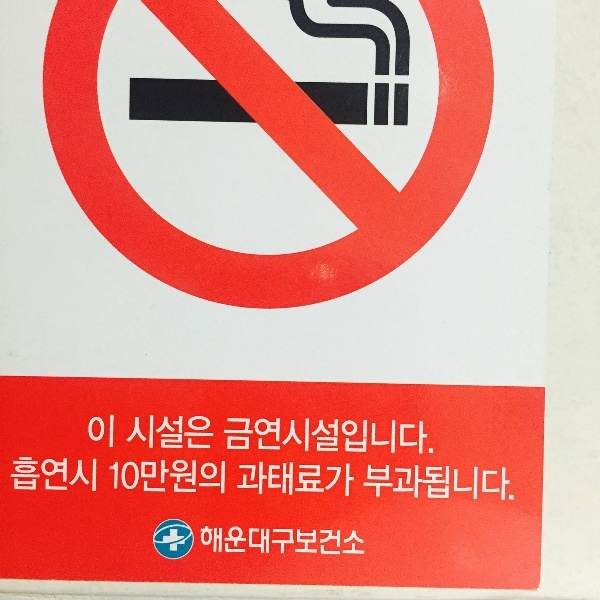text: (225, 416, 240, 459), (241, 416, 256, 459), (257, 416, 272, 459), (273, 416, 288, 459), (289, 416, 304, 459), (305, 416, 320, 459), (321, 416, 336, 459), (337, 416, 352, 459), (353, 416, 368, 459), (369, 416, 384, 459), (385, 416, 400, 459), (401, 416, 416, 459), (417, 416, 432, 459), (17, 456, 32, 498), (33, 456, 48, 498), (49, 456, 64, 498), (65, 456, 80, 498), (81, 456, 96, 498), (369, 464, 384, 503), (385, 464, 400, 503), (401, 464, 416, 503), (417, 464, 432, 503), (433, 464, 448, 503), (449, 464, 464, 503), (465, 464, 480, 503), (481, 464, 496, 503), (497, 464, 512, 503), (113, 459, 128, 497), (129, 459, 144, 497), (145, 459, 160, 497), (161, 459, 176, 497), (177, 459, 192, 497), (193, 459, 208, 497), (209, 459, 224, 497), (97, 415, 112, 453), (113, 415, 128, 453), (129, 415, 144, 453), (145, 415, 160, 453), (161, 415, 176, 453), (177, 415, 192, 453), (193, 415, 208, 453), (241, 463, 256, 499), (257, 463, 272, 499), (273, 463, 288, 499), (289, 463, 304, 499), (305, 463, 320, 499), (321, 463, 336, 499), (337, 463, 352, 499), (209, 525, 224, 559), (225, 525, 240, 559), (241, 525, 256, 559), (257, 525, 272, 559), (273, 525, 288, 559), (289, 525, 304, 559), (305, 525, 320, 559), (321, 525, 336, 559), (337, 525, 352, 559), (353, 525, 366, 559), (164, 528, 176, 554), (88, 415, 96, 453), (200, 525, 208, 559), (177, 528, 186, 554), (209, 415, 215, 453), (13, 456, 16, 498), (365, 464, 368, 503), (433, 416, 435, 459), (513, 464, 515, 503), (110, 459, 112, 497), (225, 459, 227, 497), (238, 463, 240, 499), (353, 463, 355, 499), (97, 456, 98, 498)
